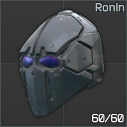DevTac Ronin ballistic helmet: (0, 0, 127, 127)
